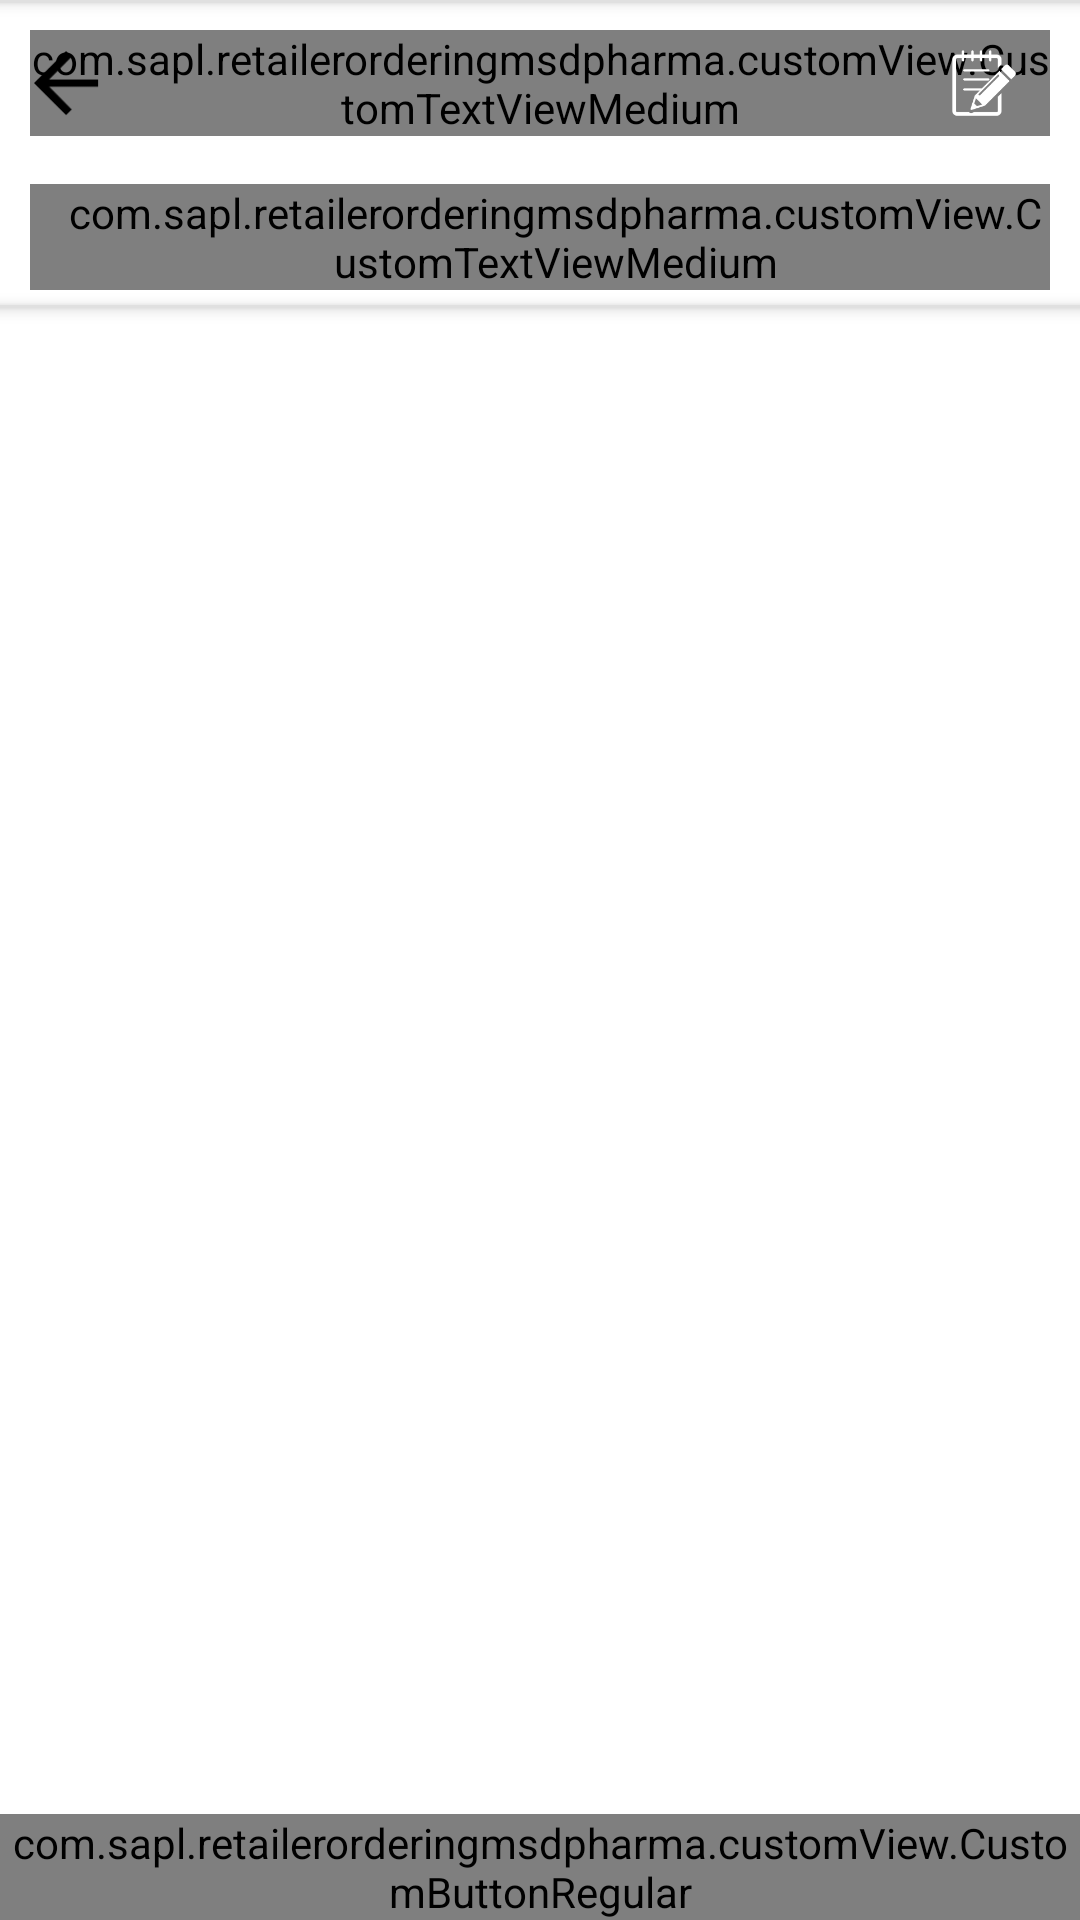

Locate icon controls on the screen. Image size 1080px x 1920px, boxes as (x1, y1, x2, y2).
edit main: (948, 45, 1020, 116)
